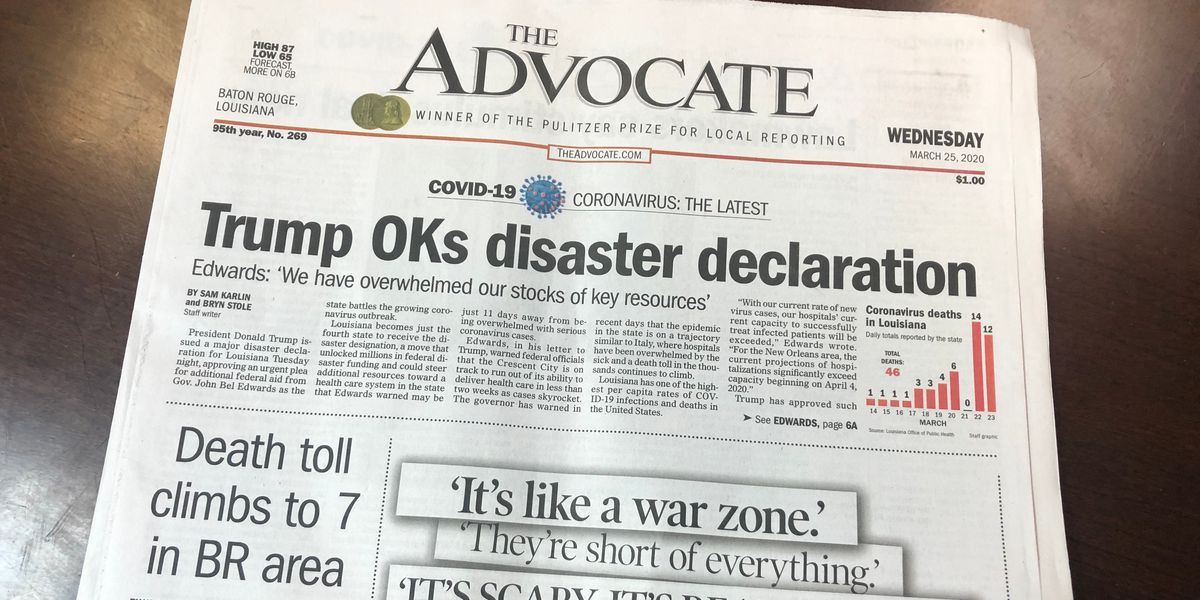news_paper: (57, 1, 1111, 600)
